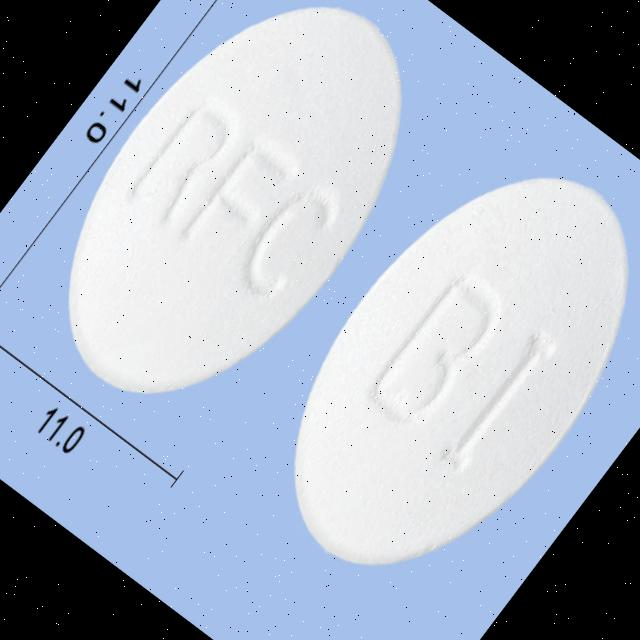Rofsin Tab: (0, 0, 466, 454), (228, 117, 640, 625)
